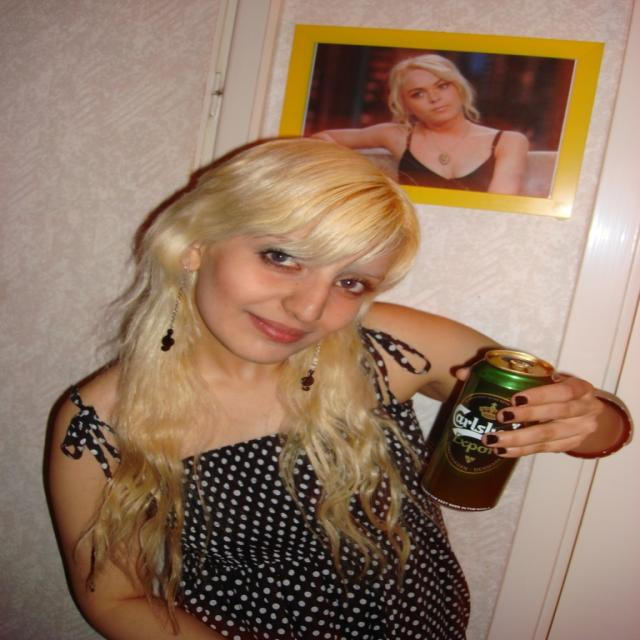carlsberg: (446, 394, 524, 475)
